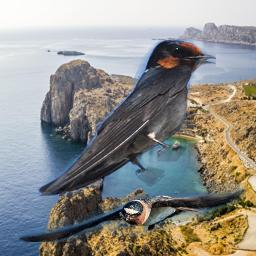Swallow: (37, 39, 216, 196), (17, 183, 246, 242)
